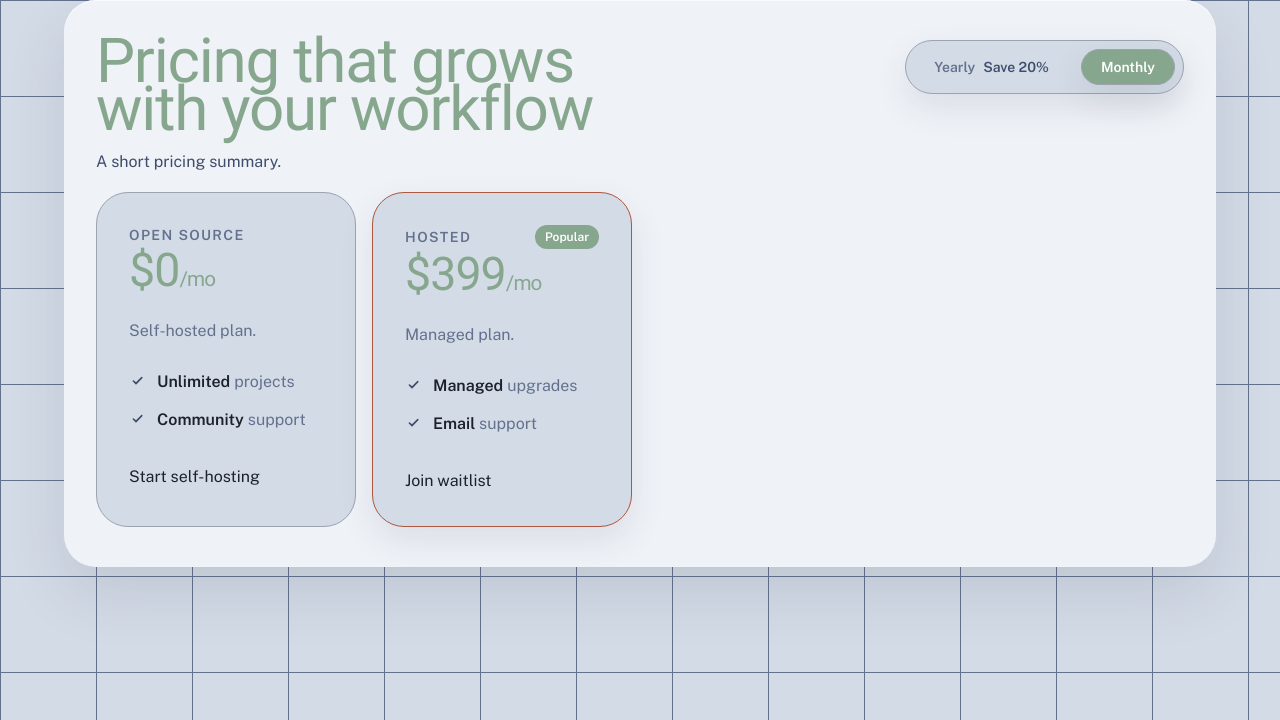
Test: Pricing › updates plan pricing when the billing cadence changes
The width and height of the screenshot is (1280, 720).
Check: the heading "$399/mo" is shown, box [405,254,542,299]
Click the button "Yearly Save 20%" at {"x": 992, "y": 67}, box [914,49,1069,85]
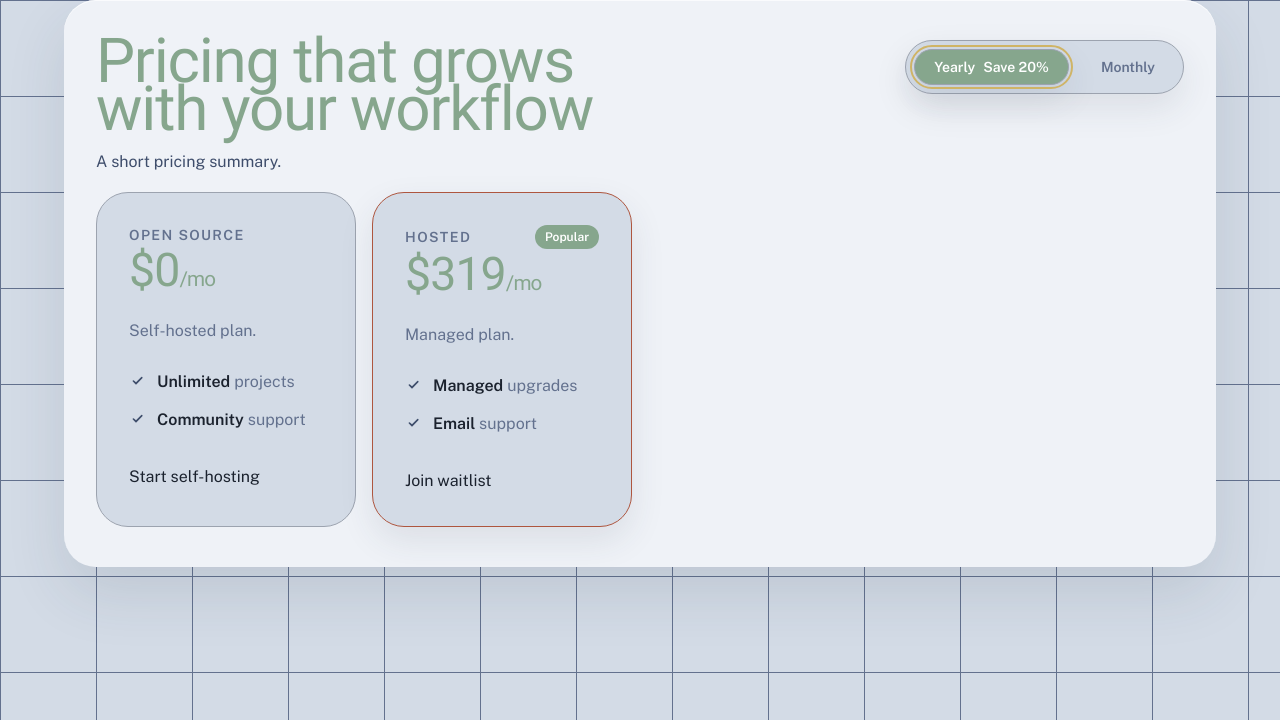
Check: the heading "$319/mo" is shown, box [405,254,542,299]
